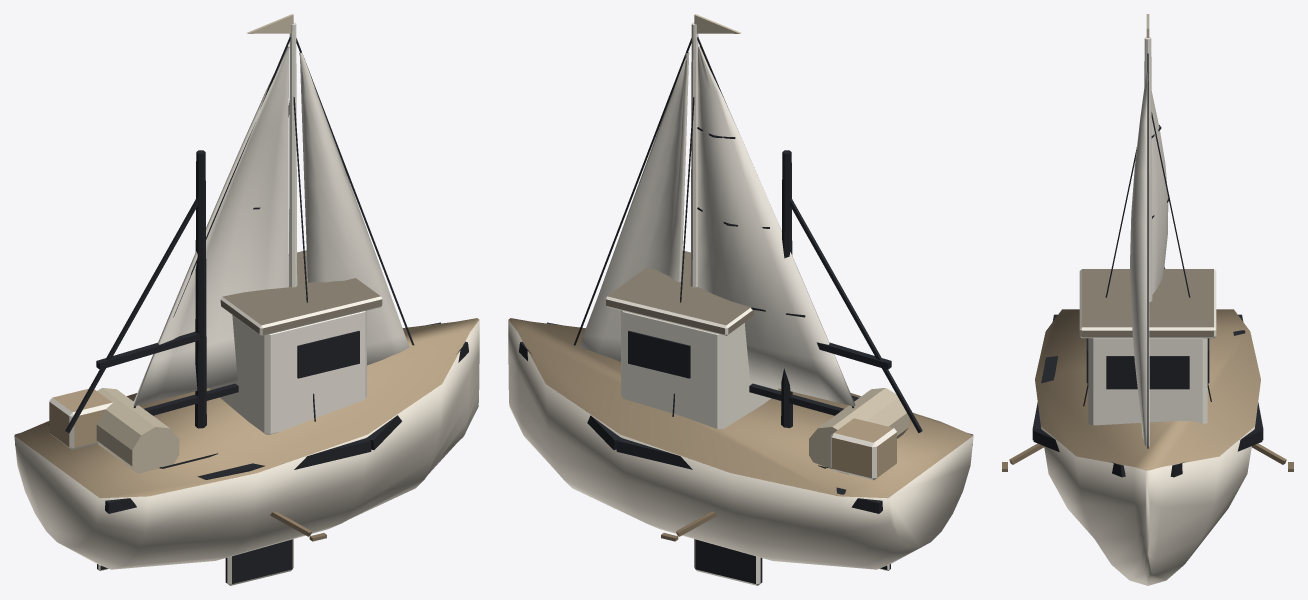
File: boats.glb
The picture shows the model from 3 angles, left to right: view 1: azimuth 30°, elevation 25°; view 2: azimuth 150°, elevation 25°; view 3: azimuth 270°, elevation 25°; orthographic projection.
Parts seen in each view (by area): view 1: FishingHull, FishingDeck, SmallMainsail, SmallJib, SmallRig, SmallBoomSpar; view 2: FishingHull, FishingDeck, SmallMainsail, SmallJib, SmallRig, SmallBoomSpar; view 3: FishingHull, FishingDeck, SmallJib, SmallRig, SmallMainsail, DinghyFittings.
Boxes of the visible parts, left/top/right/bottom form: FishingHull: left=14, top=318, right=479, bottom=569; FishingDeck: left=15, top=150, right=468, bottom=513; SmallMainsail: left=132, top=46, right=289, bottom=406; SmallJib: left=299, top=52, right=409, bottom=365; SmallRig: left=97, top=22, right=414, bottom=585; SmallBoomSpar: left=144, top=383, right=238, bottom=415; FishingHull: left=508, top=318, right=973, bottom=569; FishingDeck: left=519, top=150, right=972, bottom=513; SmallMainsail: left=698, top=46, right=855, bottom=406; SmallJib: left=579, top=52, right=689, bottom=361; SmallRig: left=573, top=22, right=890, bottom=585; SmallBoomSpar: left=749, top=383, right=843, bottom=415; FishingHull: left=1035, top=309, right=1260, bottom=585; FishingDeck: left=1032, top=269, right=1263, bottom=477; SmallJib: left=1130, top=72, right=1149, bottom=446; SmallRig: left=1083, top=37, right=1211, bottom=470; SmallMainsail: left=1151, top=91, right=1168, bottom=294; DinghyFittings: left=1002, top=443, right=1293, bottom=471.
Bounding box in the file's own units: 4.1 × 5.16 × 2.45.
